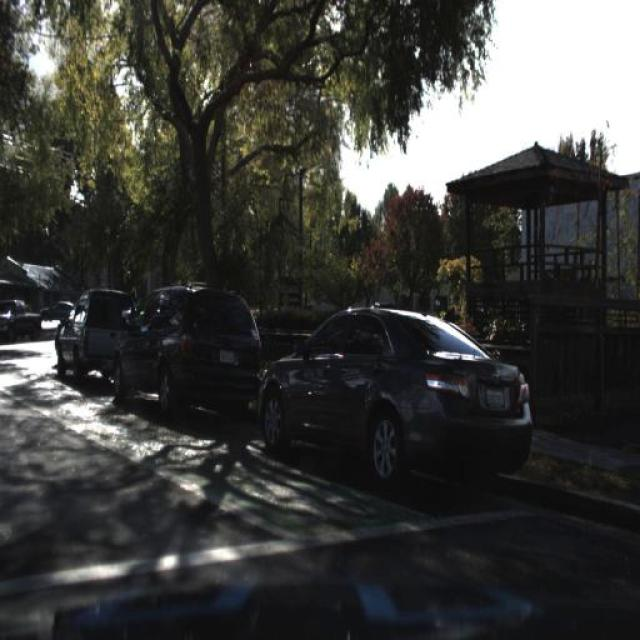car: (261, 303, 534, 471), (111, 284, 266, 411), (54, 282, 136, 389), (36, 282, 80, 332), (2, 296, 44, 346)
